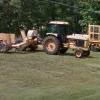Tractor: (34, 9, 90, 60)
